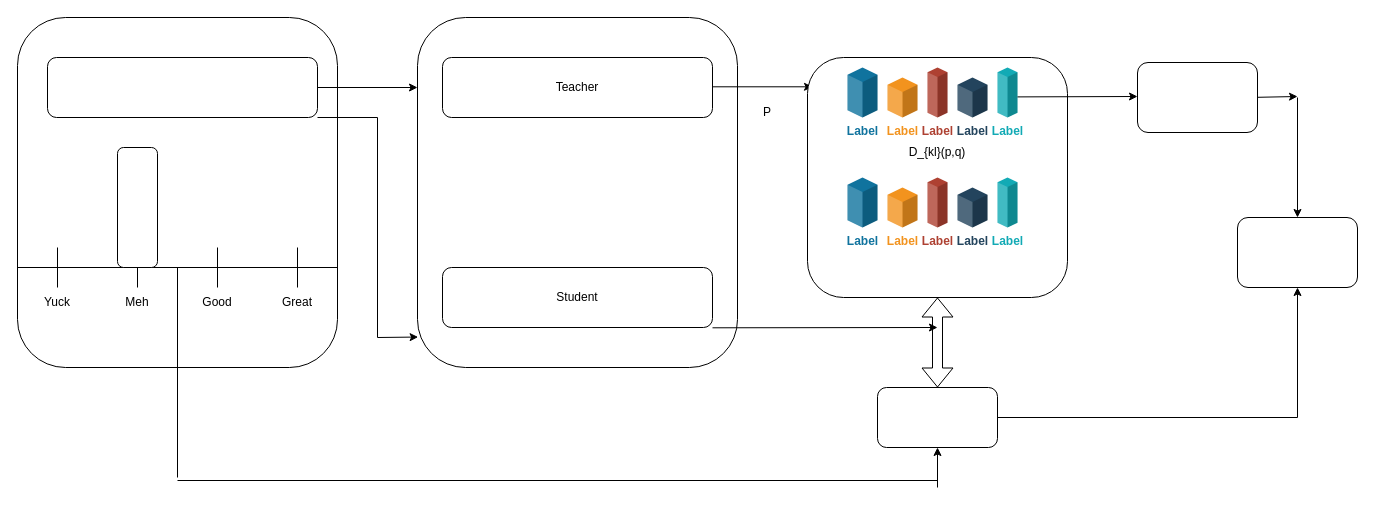
The diagram is 1375 pixels wide and 513 high, and some of its shapes have lost their labels. The centre of each missing label's shape, as x and y in pixels:
L_{CE}: [937,417]
L_{KD}: [1197,97]
L_{Student}: [1297,252]
The tacos we are: [182,87]
